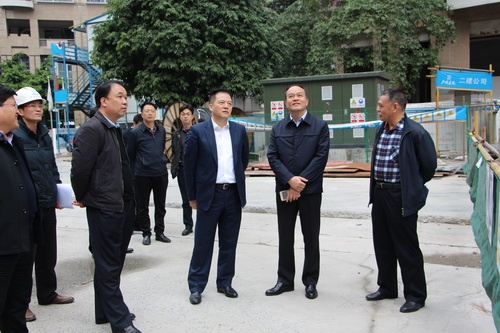none: (373, 86, 408, 128), (95, 79, 130, 117), (1, 85, 21, 133), (284, 83, 309, 116), (208, 88, 233, 119), (139, 101, 158, 124), (177, 105, 194, 126)
white: (14, 83, 45, 124)
